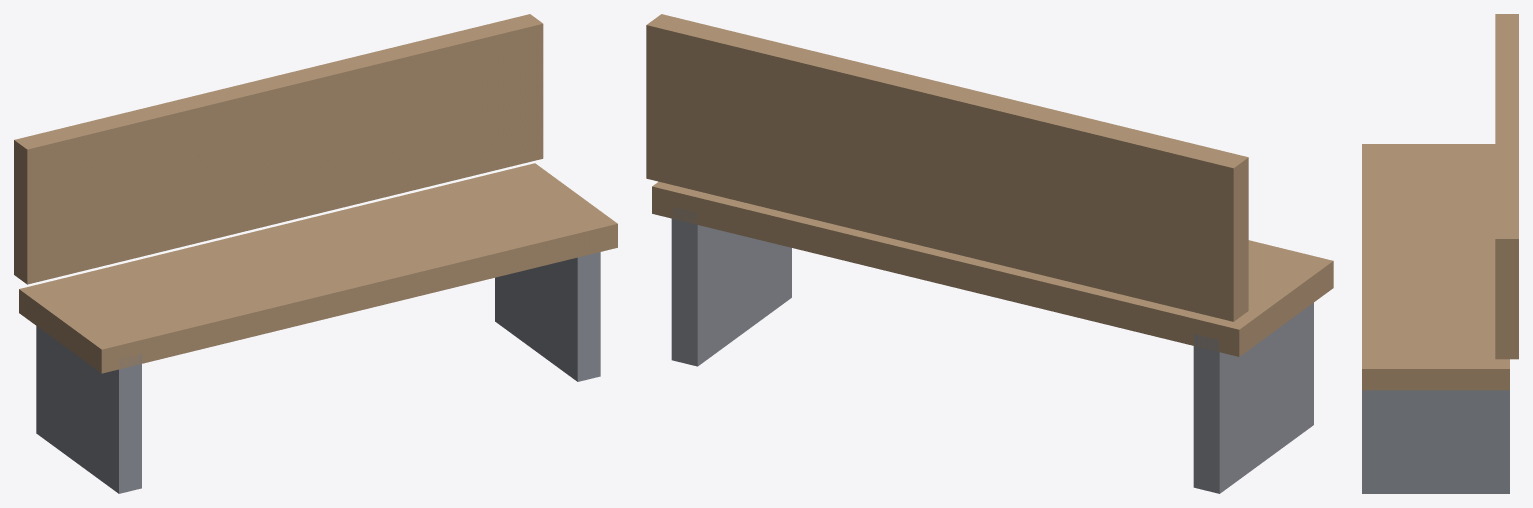
File: bench.glb
3 renders of one model, left to right at view 1: azimuth 30°, elevation 25°; view 2: azimuth 150°, elevation 25°; view 3: azimuth 270°, elevation 25°, orthographic. The views are drawn at different scales.
Parts seen in each view (by area): view 1: bench; view 2: bench; view 3: bench.
Part boxes in pixels (x1,y1,x2,y2): bench: (14, 14, 617, 493); bench: (646, 14, 1333, 493); bench: (1362, 14, 1518, 493).
Bounding box in the file's own units: 1.8 × 0.98 × 0.53.
